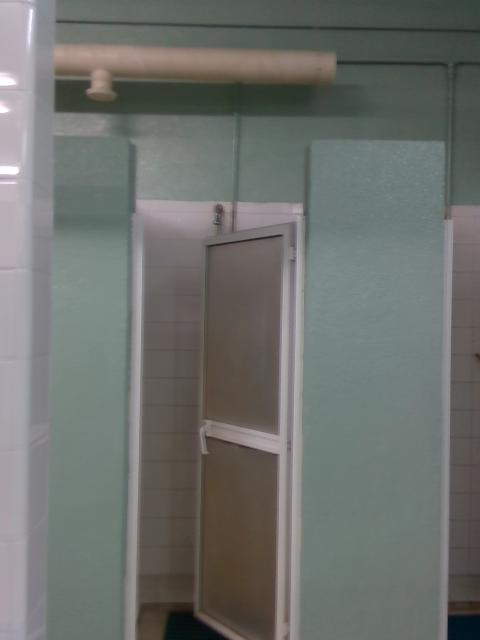semi_door: (127, 198, 302, 639)
